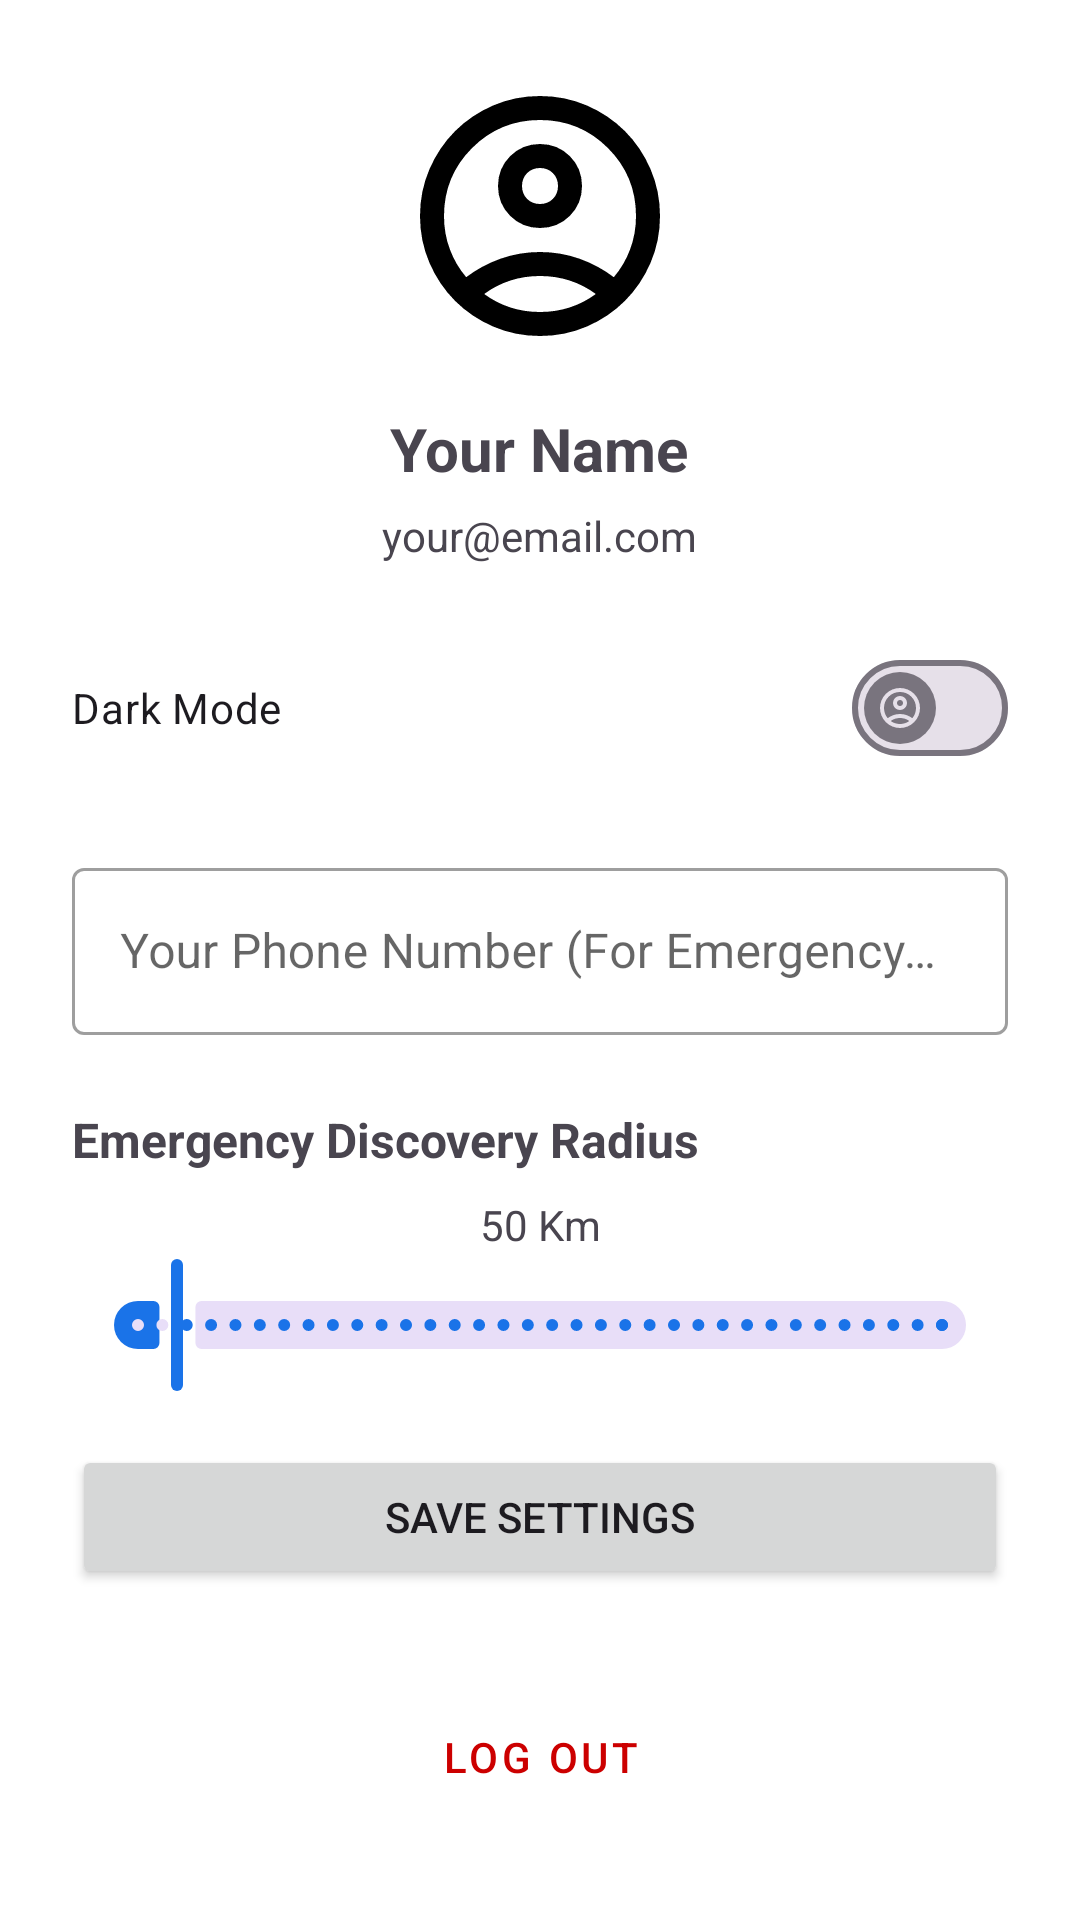

Locate icon controls on the screen. Image size 1080 × 1920, boxes as [x1,y1,x2,y2].
person: [420,96,660,336]
